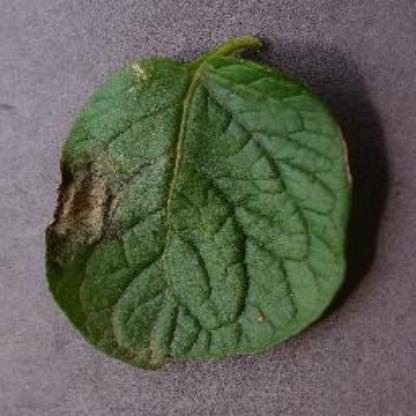Late-Blight: (41, 29, 362, 377)
